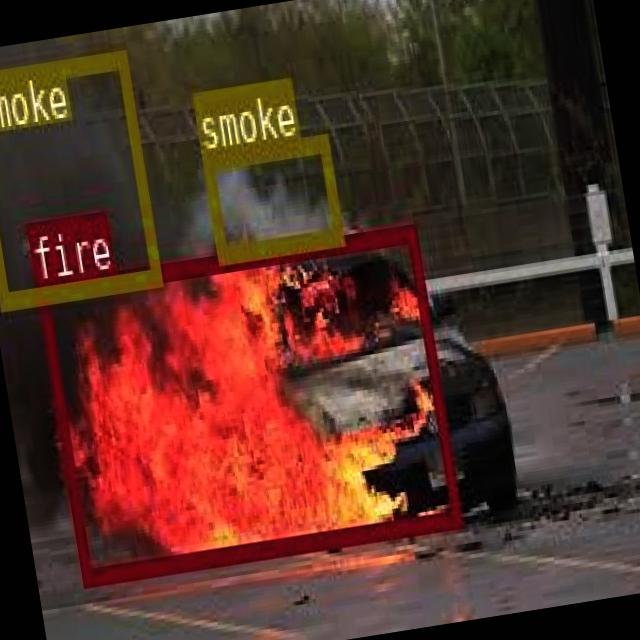fire: (34, 224, 460, 584)
smoke: (0, 47, 161, 307), (200, 132, 343, 262)
